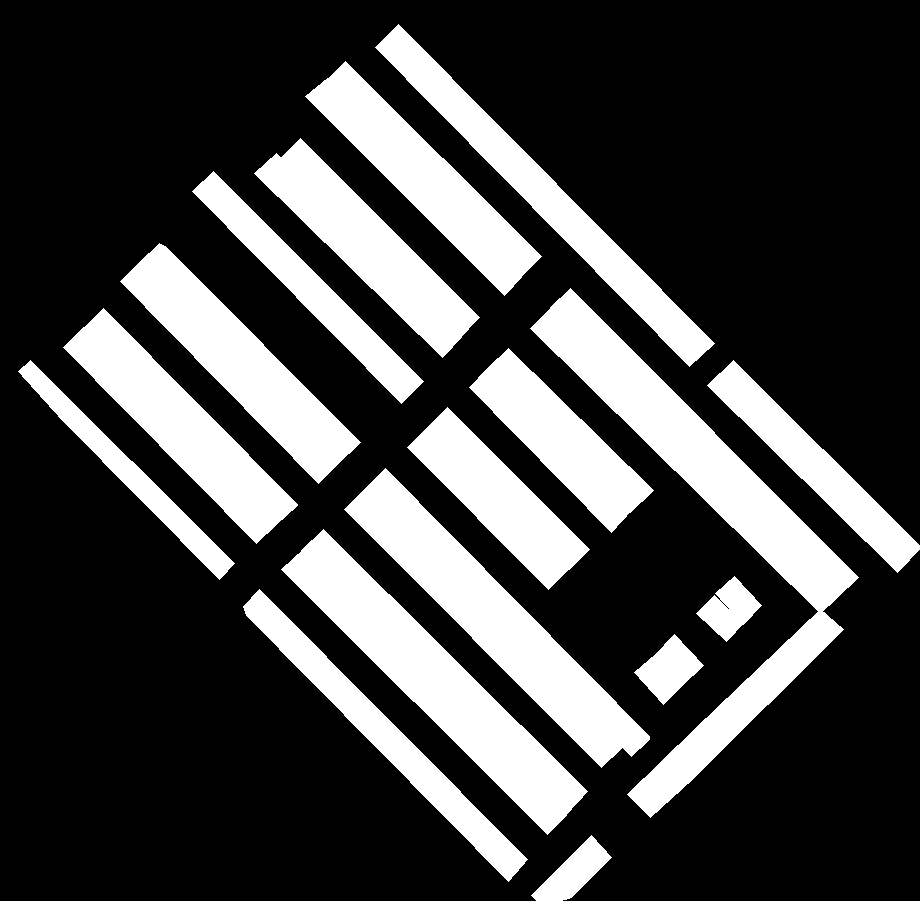parkingspot: (375, 24, 714, 366), (550, 288, 858, 596), (530, 307, 838, 613), (243, 589, 527, 881), (364, 468, 649, 756), (301, 529, 587, 815), (281, 549, 566, 834), (344, 487, 623, 767), (192, 171, 423, 403), (120, 261, 340, 483), (139, 243, 360, 463), (18, 360, 234, 579), (305, 78, 521, 295), (82, 308, 297, 524), (327, 61, 541, 277), (63, 327, 277, 543), (707, 360, 920, 572), (627, 609, 843, 817), (254, 153, 461, 357), (279, 138, 479, 338), (487, 348, 653, 512), (469, 367, 631, 532), (426, 407, 589, 569), (407, 427, 569, 589), (531, 835, 611, 901), (634, 654, 684, 704), (654, 634, 703, 684), (715, 576, 761, 624), (696, 595, 743, 641)
